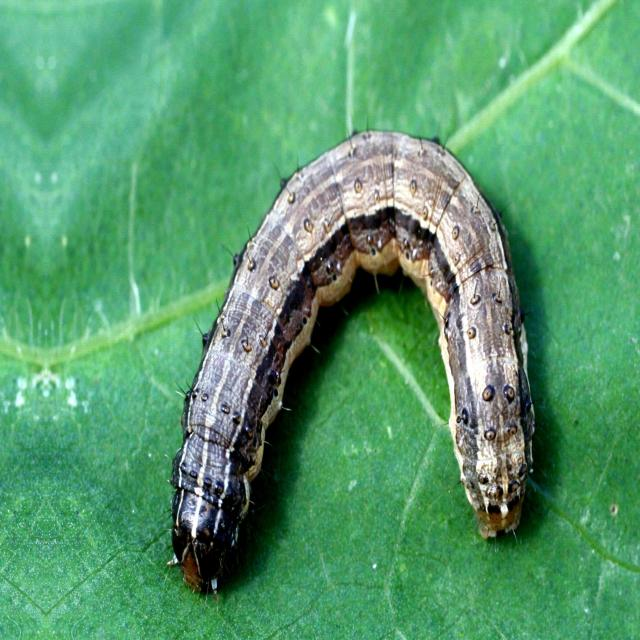Armyworm: (136, 95, 539, 605)
